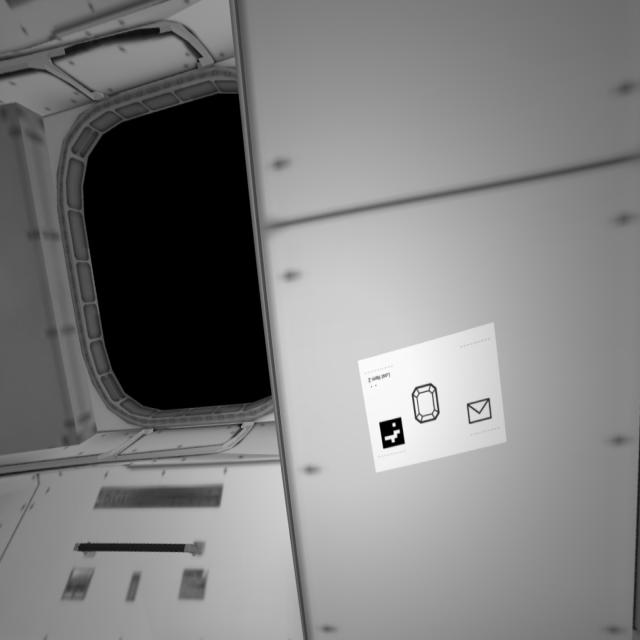emerald: (409, 378, 445, 427)
letter: (465, 396, 499, 430)
